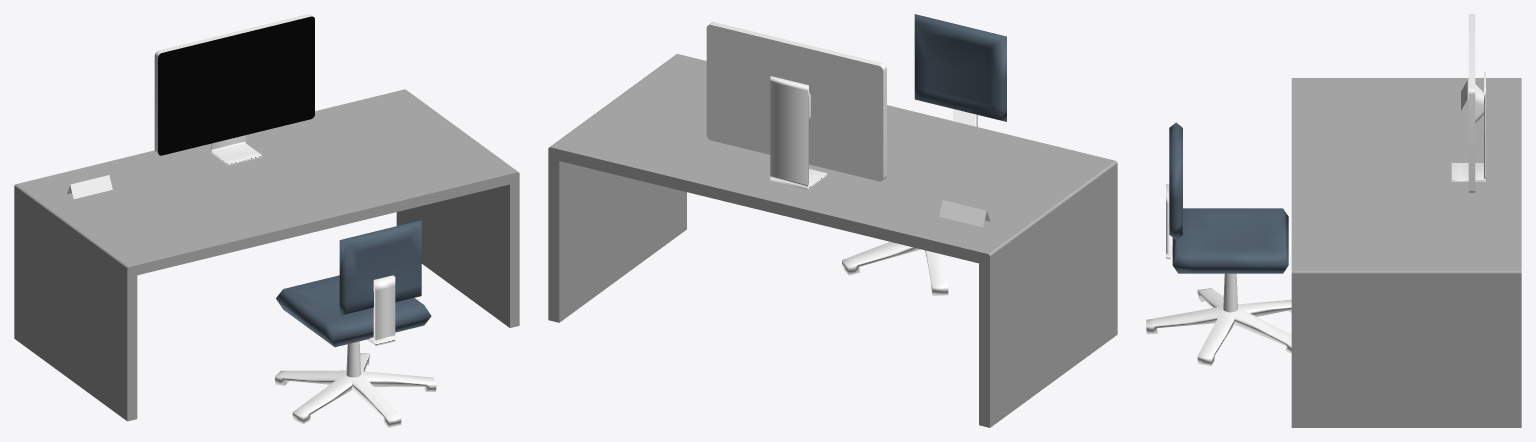
The model's file is desk.glb.
The picture shows the model from 3 angles, left to right: view 1: azimuth 30°, elevation 25°; view 2: azimuth 150°, elevation 25°; view 3: azimuth 270°, elevation 25°; orthographic projection. The views are drawn at different scales.
Visible parts, largest first — view 1: Desk, Cube.001, Chair.001, Chair, Cube, Nametag; view 2: Desk, Cube.001, Chair.001, Cube, Chair, Nametag; view 3: Desk, Chair.001, Chair, Cube.001, Cube.
Boxes of the visible parts, bbox=[...] form: Desk: bbox=[14, 89, 519, 421]; Cube.001: bbox=[154, 14, 314, 155]; Chair.001: bbox=[276, 220, 431, 347]; Chair: bbox=[275, 275, 436, 427]; Cube: bbox=[211, 135, 261, 164]; Nametag: bbox=[67, 175, 112, 198]; Desk: bbox=[548, 54, 1117, 427]; Cube.001: bbox=[706, 22, 886, 181]; Chair.001: bbox=[914, 14, 1006, 121]; Cube: bbox=[770, 76, 826, 189]; Chair: bbox=[842, 109, 977, 295]; Nametag: bbox=[939, 200, 990, 227]; Desk: bbox=[1291, 78, 1521, 427]; Chair.001: bbox=[1169, 122, 1288, 273]; Chair: bbox=[1146, 184, 1291, 365]; Cube.001: bbox=[1468, 14, 1475, 192]; Cube: bbox=[1451, 71, 1485, 181].
Size of the model in its own units: 2 by 1.34 by 1.63.
